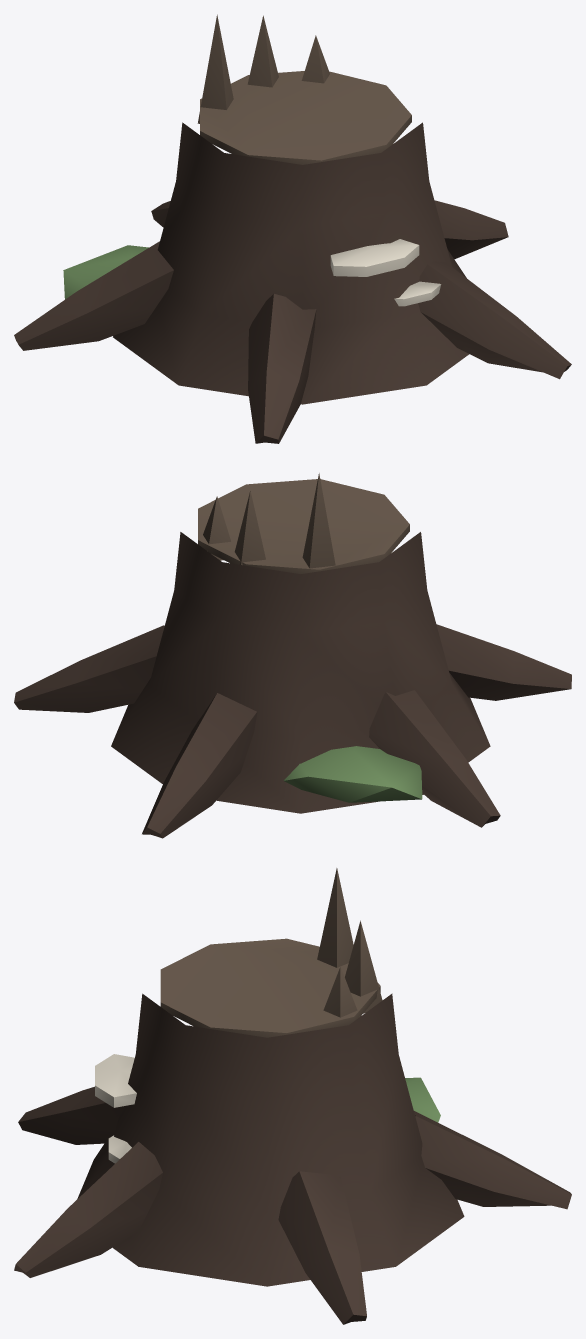
File: stump_rotten.glb
3 renders of one model, top to bottom at view 1: azimuth 30°, elevation 25°; view 2: azimuth 150°, elevation 25°; view 3: azimuth 270°, elevation 25°, orthographic. The views are drawn at different scales.
Visible parts, largest first — view 1: stump_rotten; view 2: stump_rotten; view 3: stump_rotten.
Part boxes in pixels (box(x1,y1,x2,y2)): stump_rotten: box(14, 14, 571, 443); stump_rotten: box(14, 473, 571, 838); stump_rotten: box(14, 868, 571, 1324).
Size of the model in its own units: 0.8729 by 0.51 by 0.8357.
